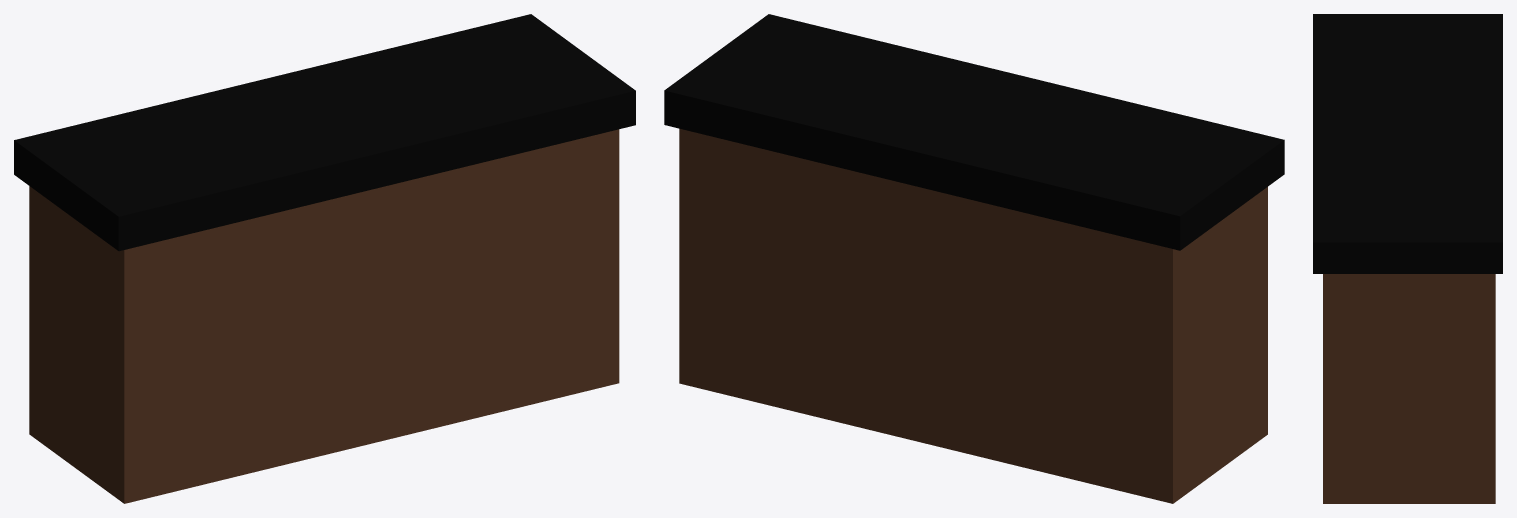
The model's file is InfoDesk.glb.
3 views of the same model, side by side, from view 1: azimuth 30°, elevation 25°; view 2: azimuth 150°, elevation 25°; view 3: azimuth 270°, elevation 25° (orthographic). The views are drawn at different scales.
Visible parts, largest first — view 1: Cube.125, Cube.126; view 2: Cube.125, Cube.126; view 3: Cube.126, Cube.125.
Boxes of the visible parts, x1,y1,x2,y2 form: Cube.125: (29,129,619,503); Cube.126: (14,14,635,251); Cube.125: (679,128,1267,503); Cube.126: (664,14,1284,250); Cube.126: (1313,14,1502,273); Cube.125: (1323,274,1495,503).
Bounding box in the file's own units: 6.27 × 3.41 × 2.2.
